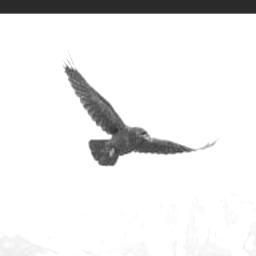Crow: (59, 43, 223, 167)
